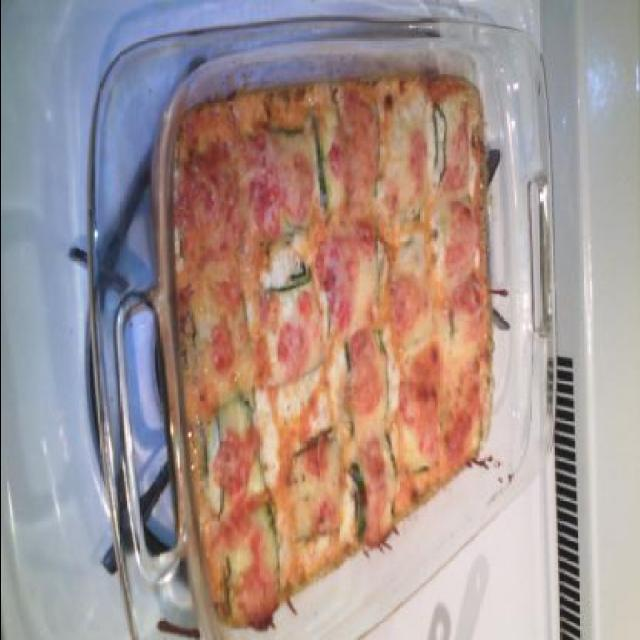Pizza: (134, 44, 494, 621)
